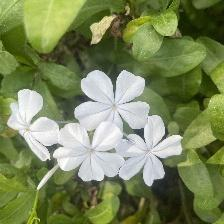chitrak: (72, 71, 155, 134), (118, 114, 183, 189), (55, 118, 125, 185), (7, 89, 60, 163)
